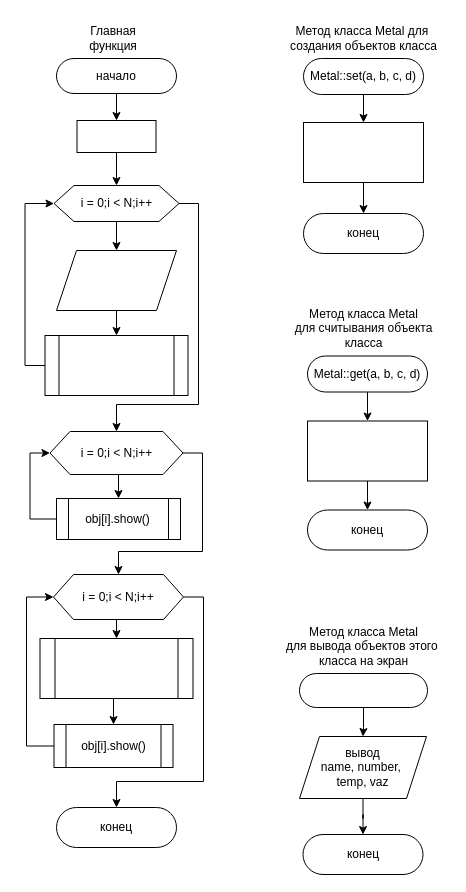
Image size: 466x892. Some labels were removed from this diagram. Here are the shapes that lost their labels. From the top down, the centre of each, then its label:
At (116,136): "N = 3".
At (363,152): "name = a; number = b; temp = c; vaz = d;".
At (116,280): "ввод n, num, t, v".
At (116,365): "obj[i].set(n,num,t,v)".
At (367,450): "a = name; b = number; c = temp; d = vaz;".
At (116,668): "obj[i].get(n, num, t, v)".
At (363,690): "Metal::show(void)".
